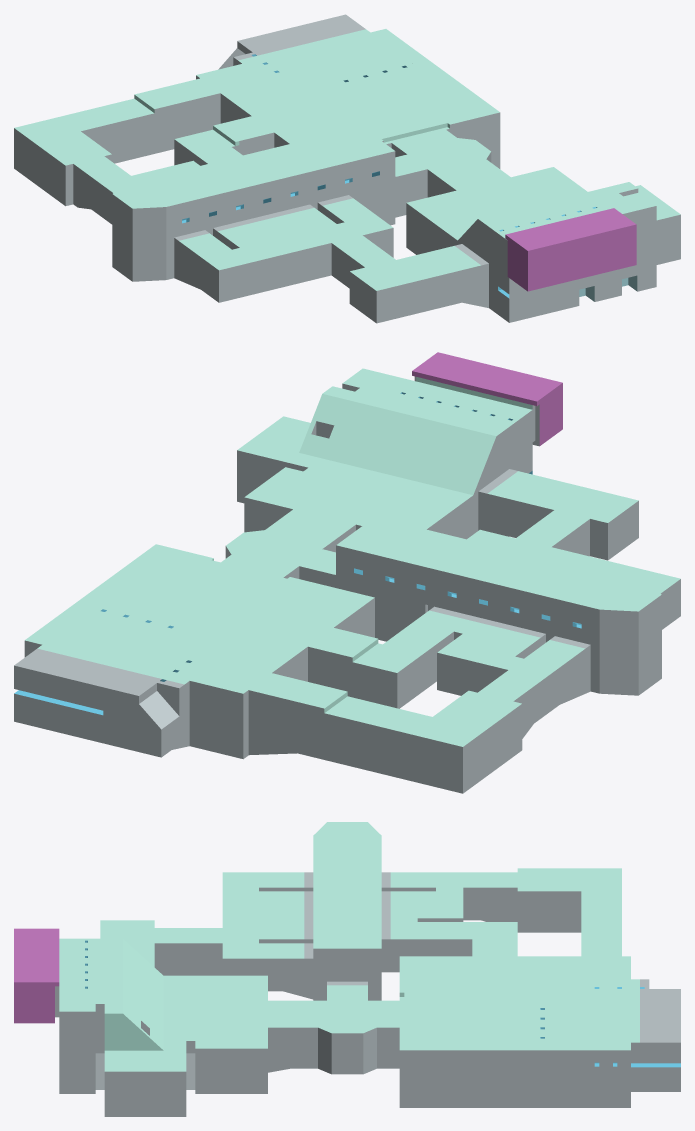
Rendered from stalwart.fbx.
3 renders of one model, top to bottom at view 1: azimuth 30°, elevation 25°; view 2: azimuth 150°, elevation 25°; view 3: azimuth 270°, elevation 25°, orthographic. The views are drawn at different scales.
Visible parts, largest first — view 1: bsp_model_0; view 2: bsp_model_0; view 3: bsp_model_0.
Boxes of the visible parts, x1,y1,x2,y2 form: bsp_model_0: (14,14,680,323); bsp_model_0: (14,352,680,793); bsp_model_0: (14,822,680,1116).
Bounding box in the file's own units: 5650 × 1200 × 7350.
